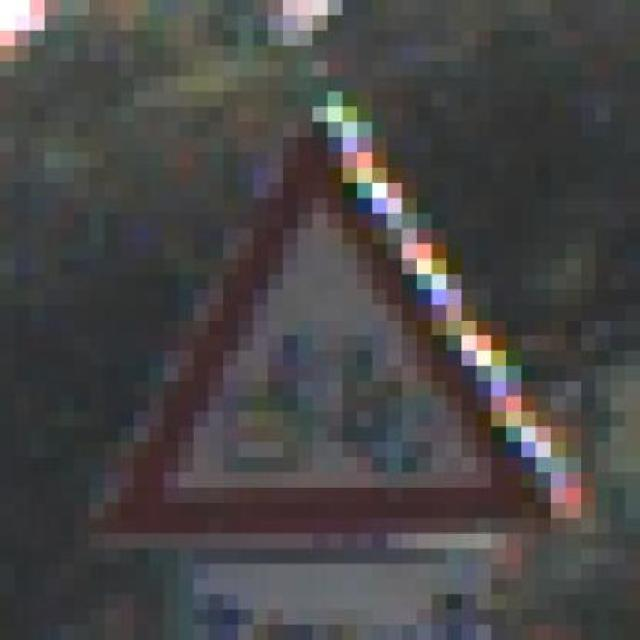CYCLE ROUTE AHEAD WARNING: (59, 76, 581, 564)
